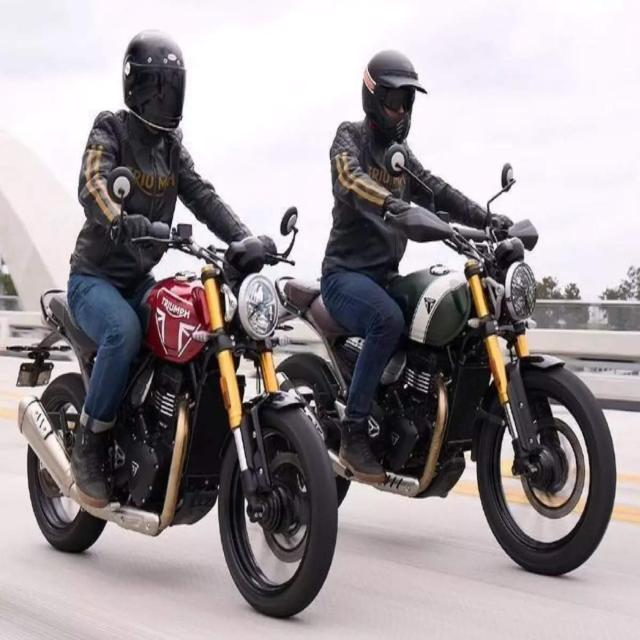motorcycle: (19, 30, 339, 617), (278, 50, 616, 575)
